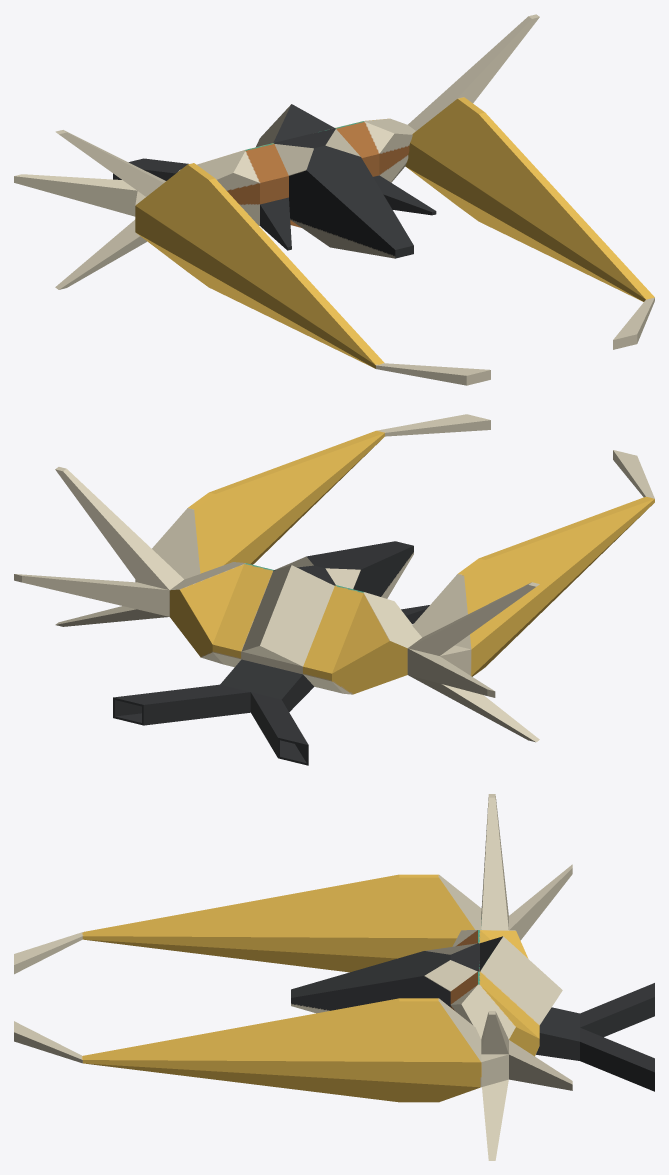
Rendered from SpaceShip 0 Mesh.fbx.
The picture shows the model from 3 angles, top to bottom: view 1: azimuth 30°, elevation 25°; view 2: azimuth 150°, elevation 25°; view 3: azimuth 270°, elevation 25°; orthographic projection. The views are drawn at different scales.
Parts seen in each view (by area): view 1: SpaceShip Mesh 0; view 2: SpaceShip Mesh 0; view 3: SpaceShip Mesh 0.
Boxes of the visible parts, x1=… form: SpaceShip Mesh 0: x1=14, y1=14, x2=654, y2=385; SpaceShip Mesh 0: x1=14, y1=414, x2=654, y2=765; SpaceShip Mesh 0: x1=14, y1=794, x2=654, y2=1160.
Size of the model in its own units: 1172 by 362 by 1439.
